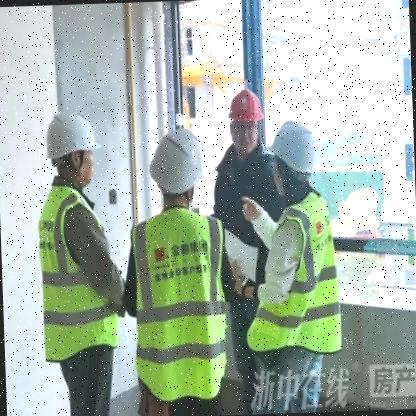capacete: (43, 106, 106, 192), (146, 122, 208, 206), (266, 115, 319, 198), (223, 86, 268, 156)
colete_refletivo: (122, 198, 238, 404), (240, 187, 346, 362), (34, 174, 129, 366)
sem_colete_refletivo: (209, 138, 282, 276)
